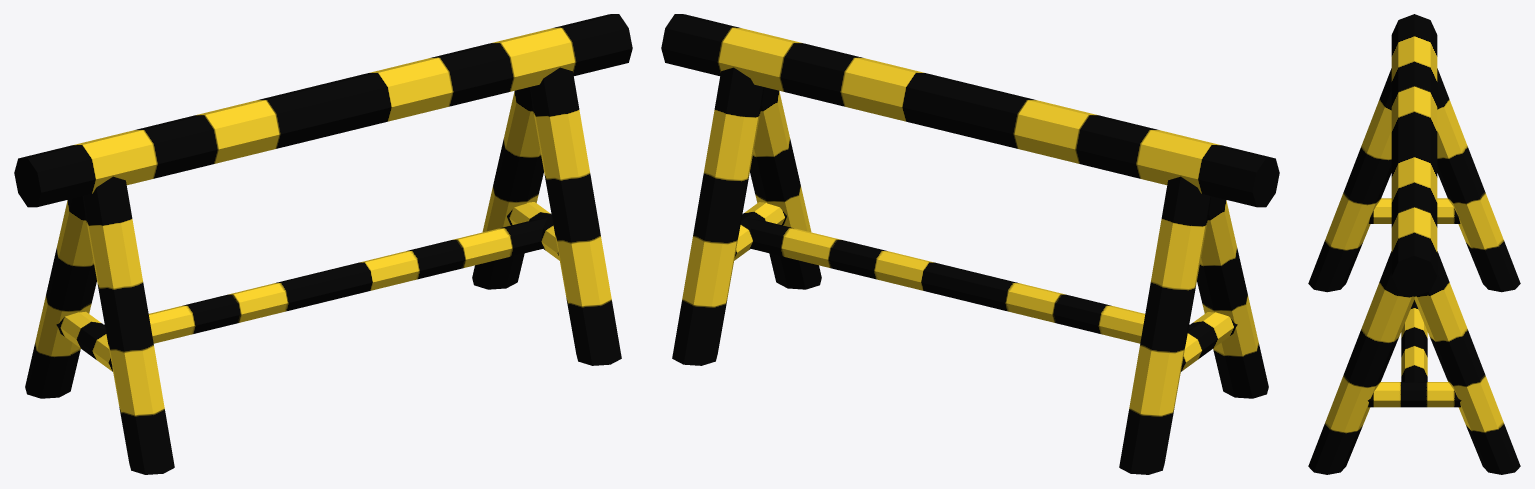
The model's file is fbx_barricade.fbx.
The picture shows the model from 3 angles, left to right: view 1: azimuth 30°, elevation 25°; view 2: azimuth 150°, elevation 25°; view 3: azimuth 270°, elevation 25°; orthographic projection. The views are drawn at different scales.
Parts seen in each view (by area): view 1: fbx_barricade; view 2: fbx_barricade; view 3: fbx_barricade.
Boxes of the visible parts, bbox=[...] form: fbx_barricade: bbox=[14, 14, 632, 474]; fbx_barricade: bbox=[661, 14, 1279, 474]; fbx_barricade: bbox=[1308, 14, 1520, 474].
Bounding box in the file's own units: 3.83 × 1.77 × 1.42.
1 material, 1 textured.
